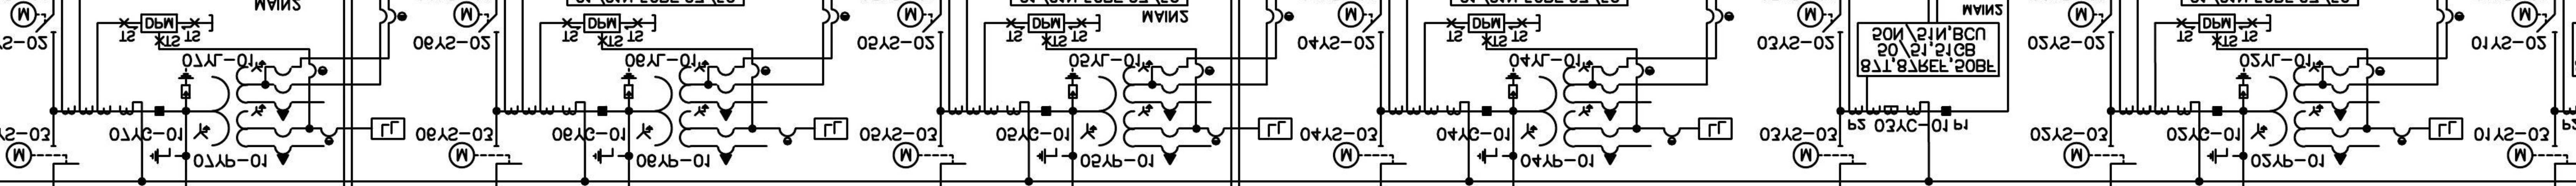115_1way_ds_w_motor: (5, 142, 80, 170), (1792, 142, 1868, 170), (447, 142, 524, 168), (890, 142, 968, 168), (1332, 142, 1408, 168), (2062, 142, 2137, 168), (2067, 0, 2114, 35), (895, 0, 945, 33), (1336, 0, 1385, 33), (10, 2, 57, 35), (452, 0, 499, 33), (2510, 2, 2558, 35), (1797, 0, 1843, 33)
115_gs: (591, 146, 621, 165), (1035, 146, 1065, 165), (1475, 146, 1505, 165), (149, 146, 177, 165), (2206, 146, 2234, 165)
115_la: (177, 67, 195, 99), (619, 67, 637, 99), (2234, 67, 2252, 99), (1065, 67, 1081, 99), (1505, 67, 1521, 99)
115_vt_3p: (192, 59, 292, 166), (636, 59, 736, 166), (1079, 59, 1180, 166), (1520, 59, 1620, 166), (2249, 59, 2349, 166)
DPM: (140, 13, 179, 33), (583, 13, 621, 33), (1027, 13, 1065, 33), (1467, 13, 1505, 33), (2198, 13, 2236, 33)
LL: (370, 117, 406, 140), (813, 117, 849, 140), (1257, 117, 1293, 140), (1697, 117, 1733, 140), (2428, 117, 2463, 140)
